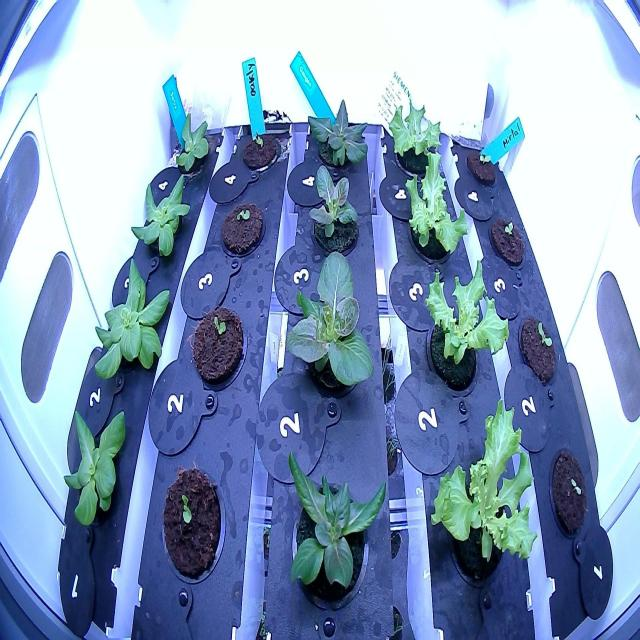germination: (154, 457, 230, 590), (543, 435, 594, 547), (190, 298, 249, 394), (511, 308, 563, 390), (219, 195, 267, 265), (486, 206, 528, 271), (462, 134, 506, 193), (238, 122, 280, 181)
young: (279, 436, 396, 621), (279, 238, 379, 407), (78, 239, 177, 394), (53, 391, 140, 537), (122, 152, 198, 262), (302, 155, 369, 263), (302, 92, 374, 182), (163, 100, 221, 184)
